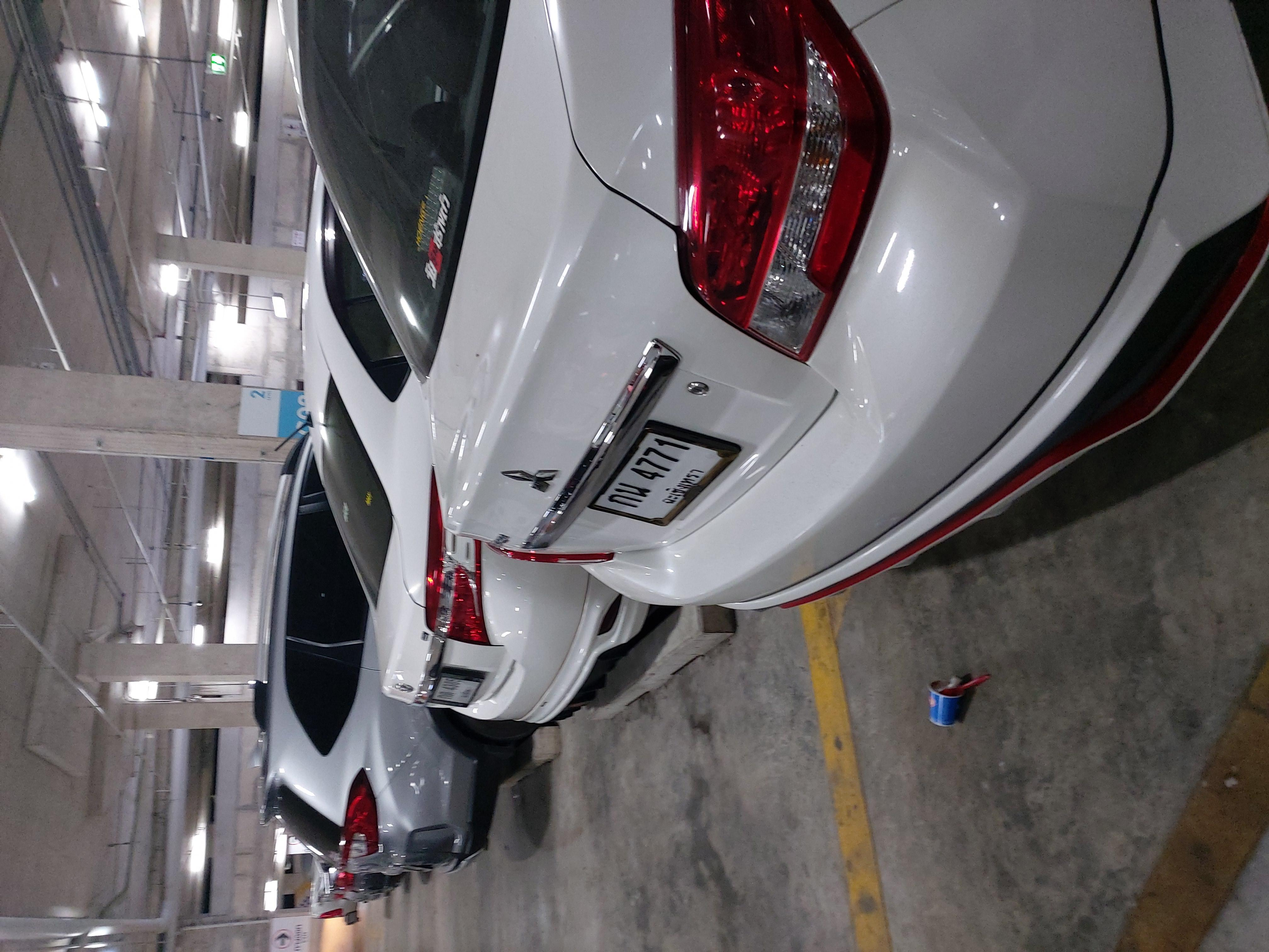license-plate: (573, 446, 693, 543)
